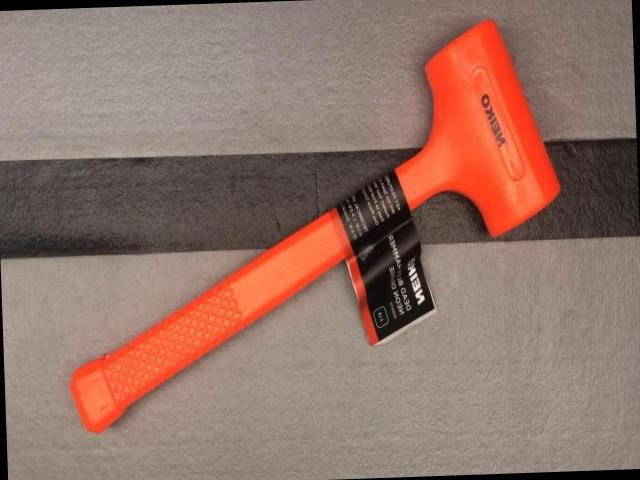hammer: (57, 15, 571, 432)
